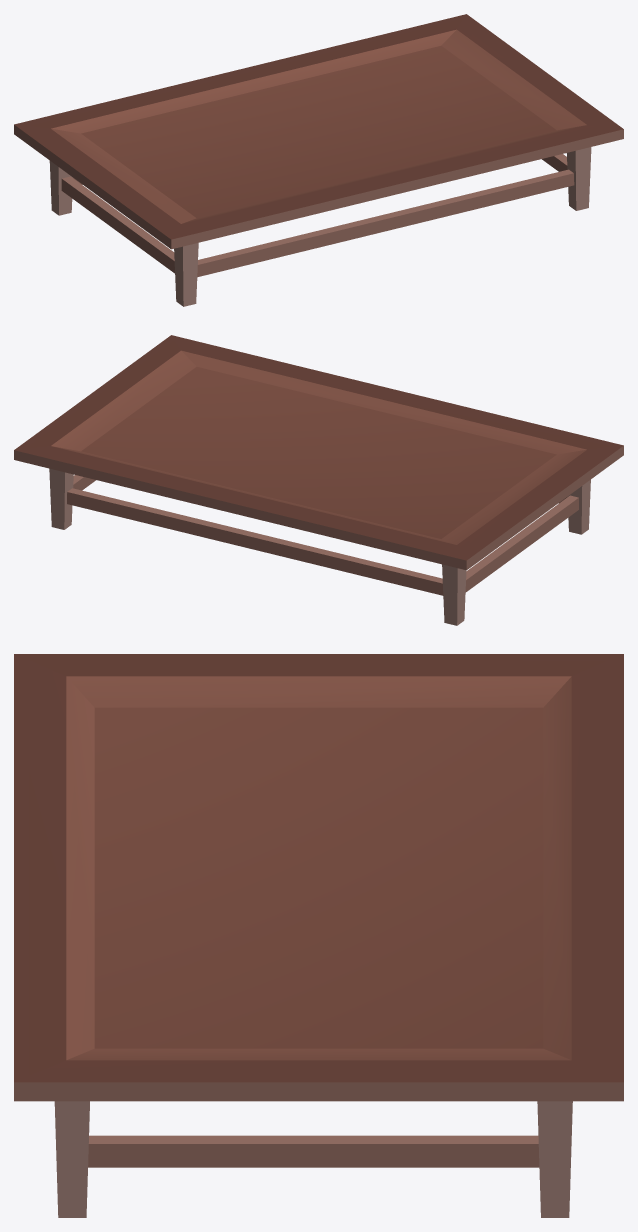
File: coffee_table_012.glb
3 views of the same model, one above another, from view 1: azimuth 30°, elevation 25°; view 2: azimuth 150°, elevation 25°; view 3: azimuth 270°, elevation 25° (orthographic). The views are drawn at different scales.
Parts seen in each view (by area): view 1: coffee_table_012; view 2: coffee_table_012; view 3: coffee_table_012.
Part boxes in pixels (left/top/right/bottom): coffee_table_012: left=14, top=14, right=623, bottom=306; coffee_table_012: left=14, top=335, right=623, bottom=625; coffee_table_012: left=14, top=654, right=623, bottom=1217.
Bounding box in the file's own units: 1.72 × 0.2952 × 1.03.
Materials: 1 (1 with a texture image).
